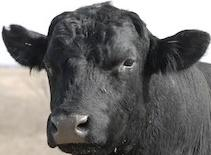muzzles: (45, 111, 105, 148)
